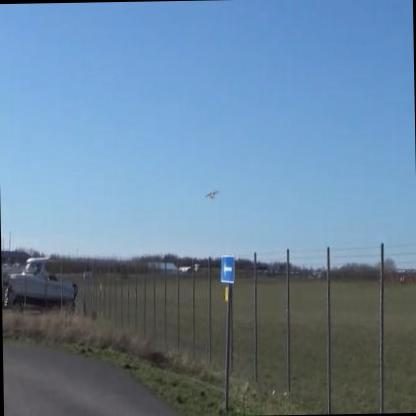plane: (201, 183, 220, 206)
